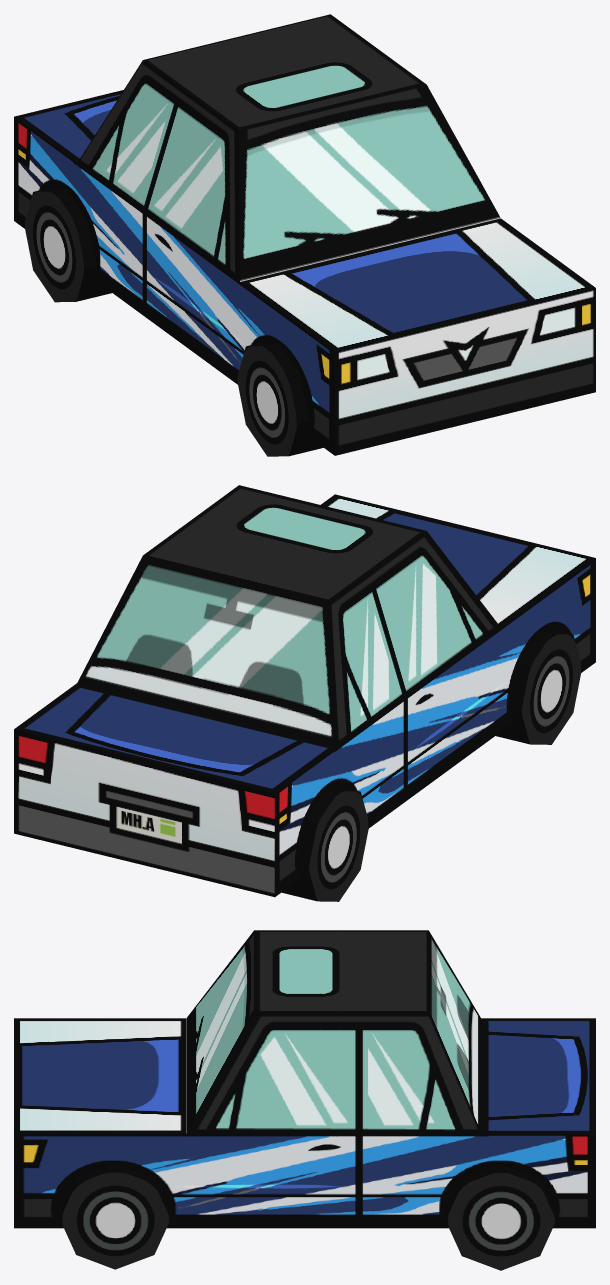
Rendered from car1_12.gltf.
3 renders of one model, top to bottom at view 1: azimuth 30°, elevation 25°; view 2: azimuth 150°, elevation 25°; view 3: azimuth 270°, elevation 25°, orthographic. The views are drawn at different scales.
Parts seen in each view (by area): view 1: Cylinder.002; view 2: Cylinder.002; view 3: Cylinder.002.
Boxes of the visible parts, <box> form: Cylinder.002: <box>14,14,595,456</box>; Cylinder.002: <box>14,485,595,901</box>; Cylinder.002: <box>14,930,595,1270</box>.
Bounding box in the file's own units: 2.79 × 2.41 × 5.41.
1 material, 1 textured.
